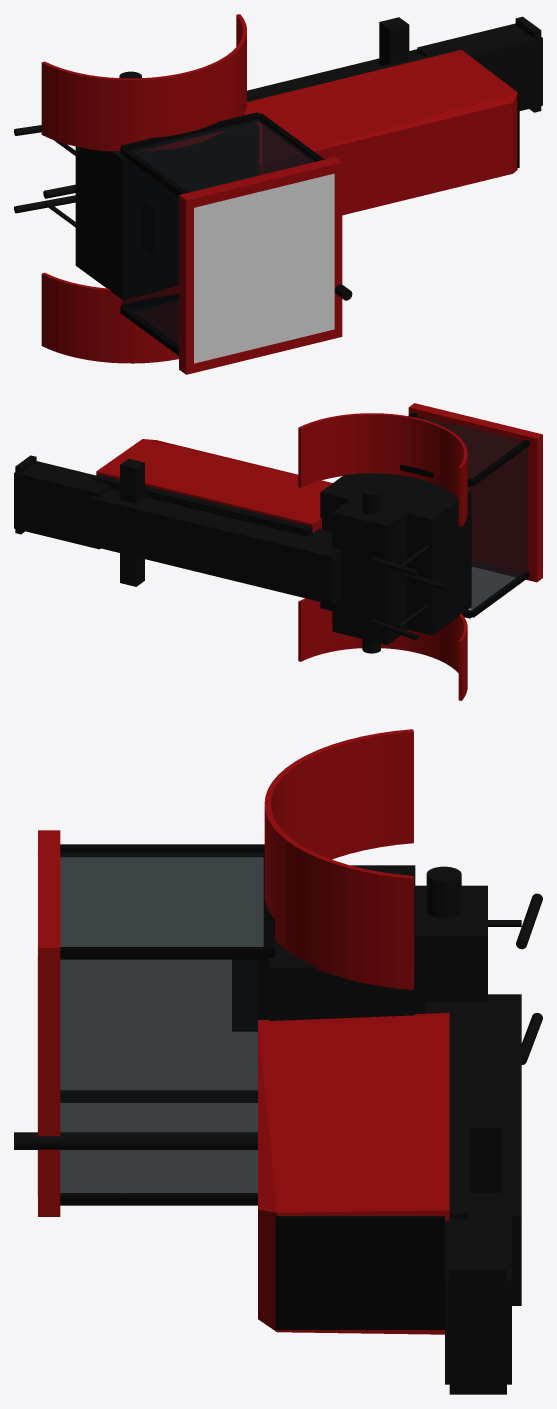
The model's file is body.obj.
3 renders of one model, top to bottom at view 1: azimuth 30°, elevation 25°; view 2: azimuth 150°, elevation 25°; view 3: azimuth 270°, elevation 25°, orthographic. The views are drawn at different scales.
Parts seen in each view (by area): view 1: mf_8732_body; view 2: mf_8732_body; view 3: mf_8732_body.
Part boxes in pixels (box(x1,y1,x2,y2)): mf_8732_body: box(14, 14, 542, 374); mf_8732_body: box(14, 403, 542, 700); mf_8732_body: box(14, 729, 542, 1394).
Size of the model in its own units: 5.71 by 3.02 by 3.31.
